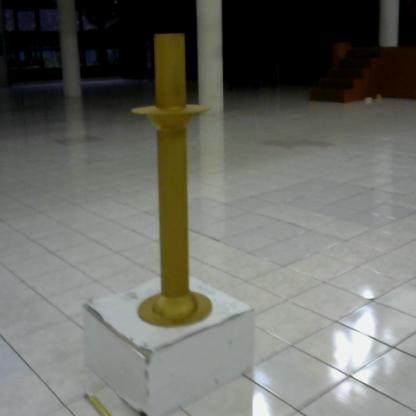pole: (127, 25, 218, 342)
